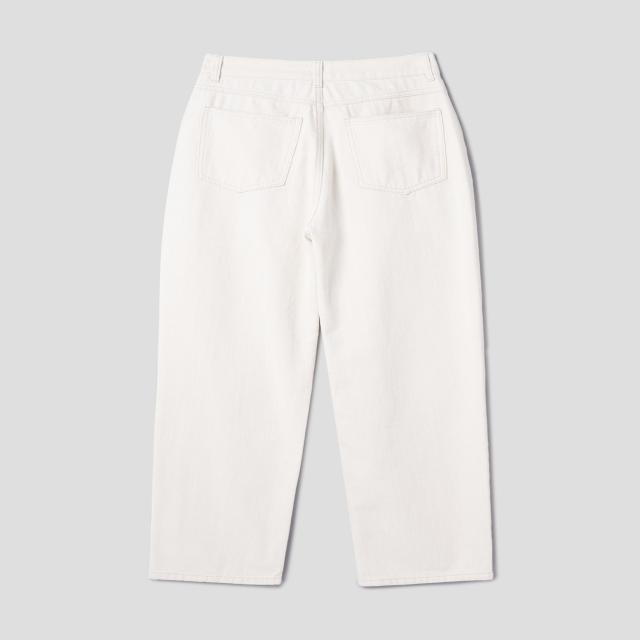long-pants: (148, 54, 500, 592)
